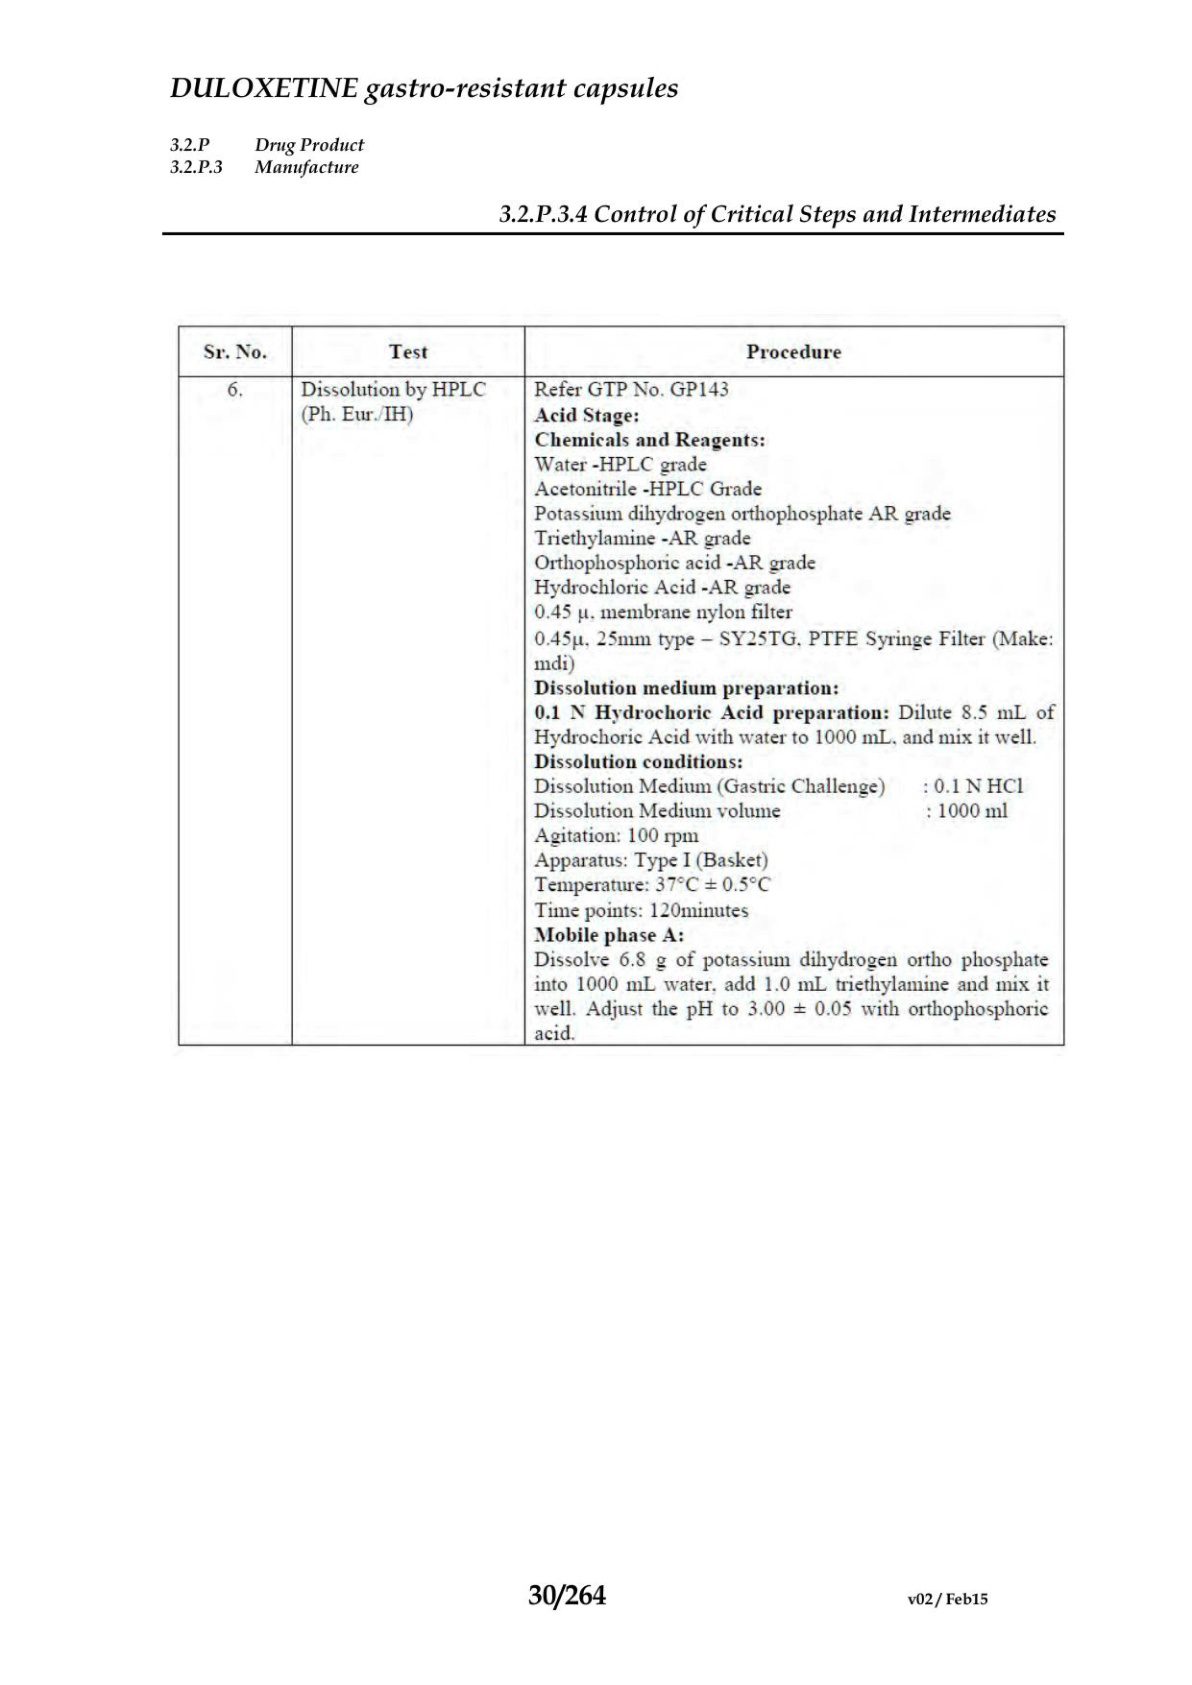full_lined: (168, 320, 1082, 1070)
